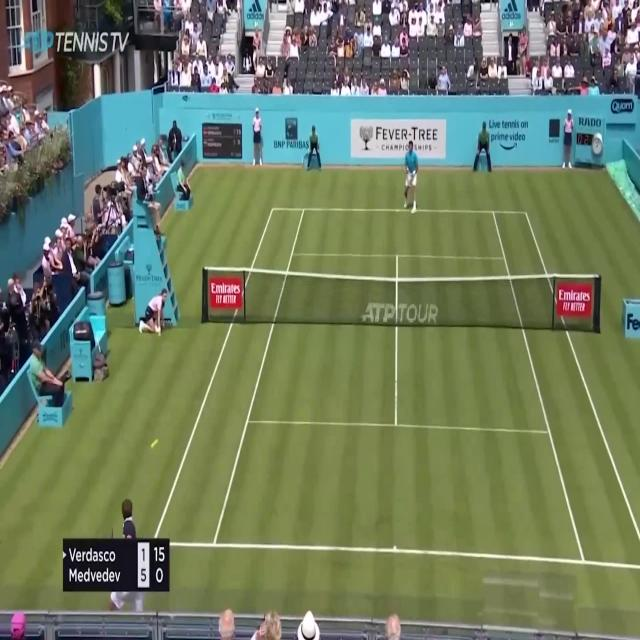bottom-dead-zone: (214, 421, 584, 561)
court: (154, 209, 640, 566)
left-doubles-alley: (152, 209, 304, 544)
left-service-box: (248, 254, 397, 426)
net: (202, 266, 603, 335)
right-doubles-alley: (494, 212, 640, 567)
right-service-box: (396, 256, 549, 432)
top-dead-zone: (292, 209, 505, 258)
